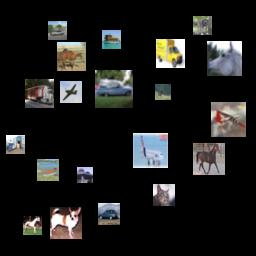airplane: (211, 102, 246, 137), (133, 133, 168, 168), (60, 81, 82, 103), (77, 167, 93, 183)
automobile: (95, 70, 133, 108), (98, 203, 120, 225), (48, 21, 67, 40)
cat: (153, 184, 175, 206)
deer: (155, 84, 171, 100)
dog: (50, 207, 82, 239), (193, 16, 212, 35)
ship: (37, 159, 59, 181), (102, 30, 121, 49)
truck: (156, 39, 185, 68), (25, 79, 54, 108), (6, 135, 25, 154)
